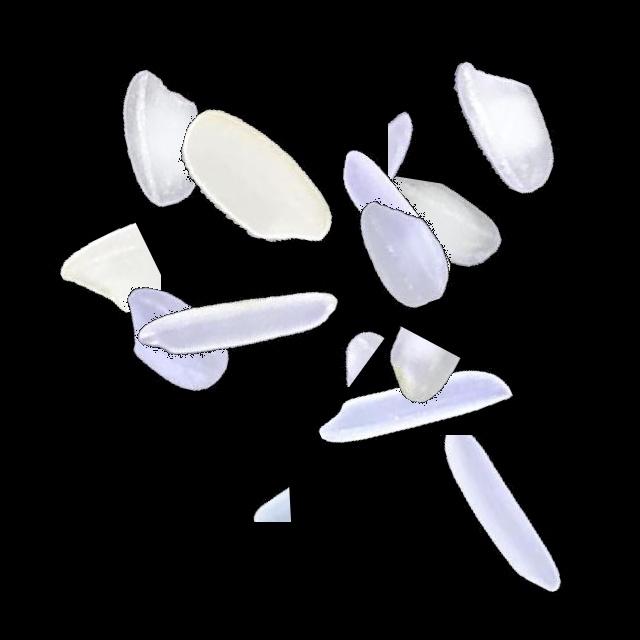Broken: (338, 435, 588, 609), (351, 138, 512, 388), (336, 272, 462, 522), (51, 162, 161, 412), (388, 49, 491, 299), (200, 293, 450, 387), (125, 445, 375, 522)
Full: (37, 12, 287, 262), (49, 213, 299, 463), (113, 193, 363, 443), (288, 279, 538, 529), (270, 87, 520, 337), (374, 3, 624, 253), (131, 55, 381, 305), (280, 124, 530, 374)
